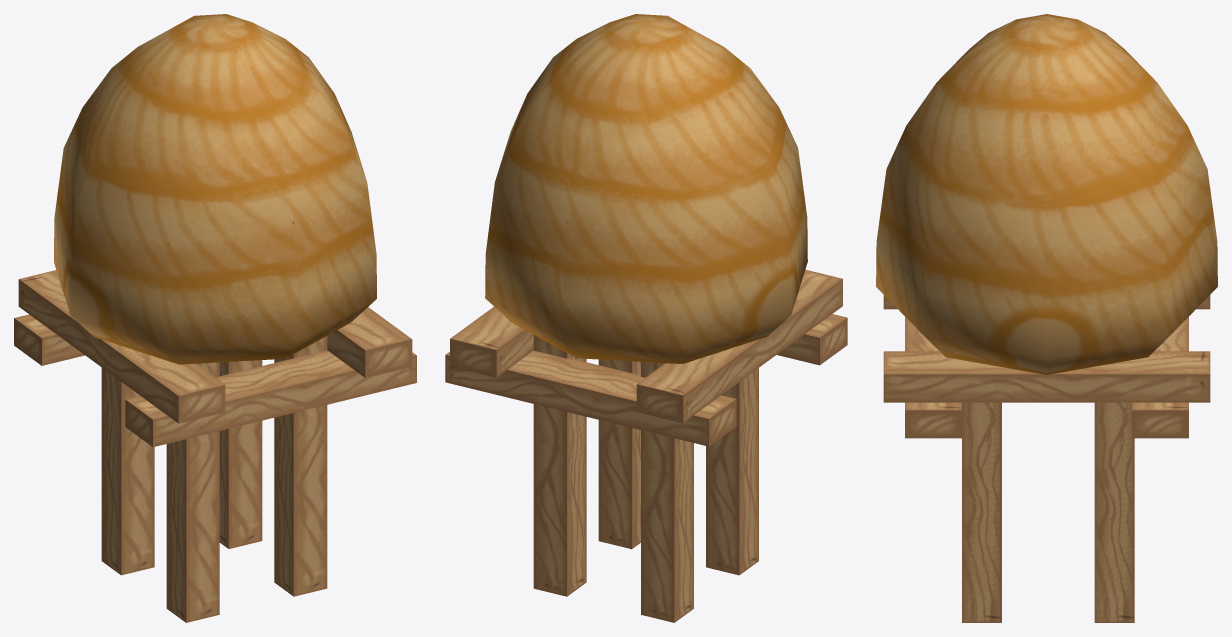
The model's file is _Hive.fbx.
3 views of the same model, side by side, from view 1: azimuth 30°, elevation 25°; view 2: azimuth 150°, elevation 25°; view 3: azimuth 270°, elevation 25° (orthographic). The views are drawn at different scales.
Visible parts, largest first — view 1: _Hive; view 2: _Hive; view 3: _Hive.
Part boxes in pixels (<box>): _Hive: <box>14,14,416,622</box>; _Hive: <box>445,14,847,622</box>; _Hive: <box>876,14,1217,622</box>.
Bounding box in the file's own units: 1.1 × 1.1 × 2.01.
1 material, 1 textured.
